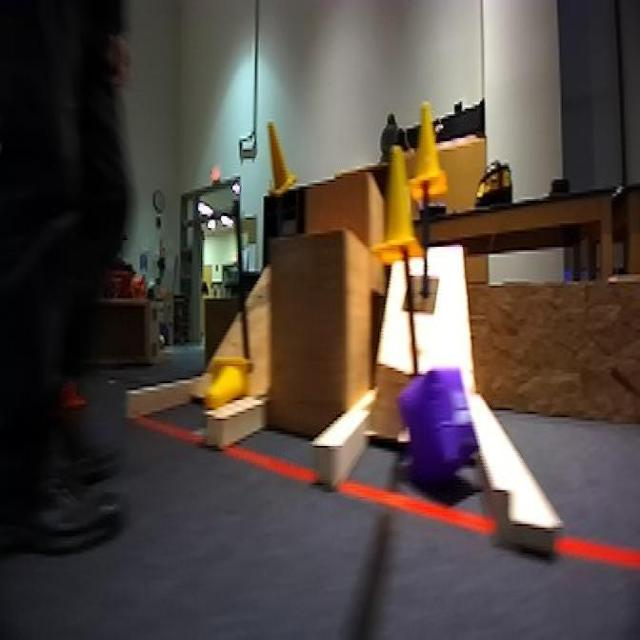frc_cone: (363, 131, 420, 271), (404, 97, 448, 203), (197, 358, 252, 413), (264, 117, 299, 194)
frc_cube: (410, 361, 485, 500)
